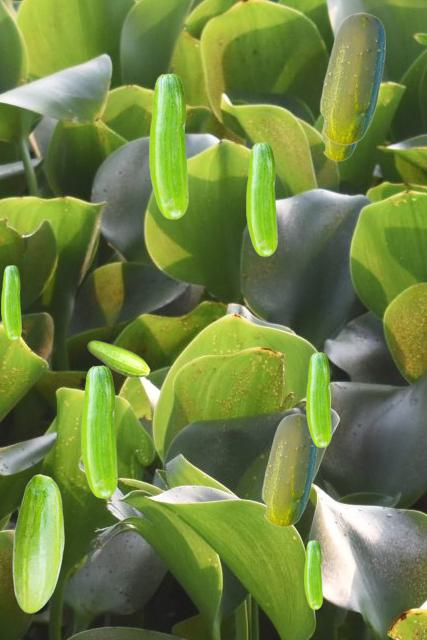cucumber: (319, 12, 384, 144), (12, 474, 63, 612), (261, 413, 316, 526), (149, 73, 187, 218), (81, 365, 116, 497), (246, 142, 276, 255), (87, 340, 149, 377), (306, 352, 330, 446), (321, 119, 357, 160), (1, 265, 20, 339), (304, 540, 321, 608)
